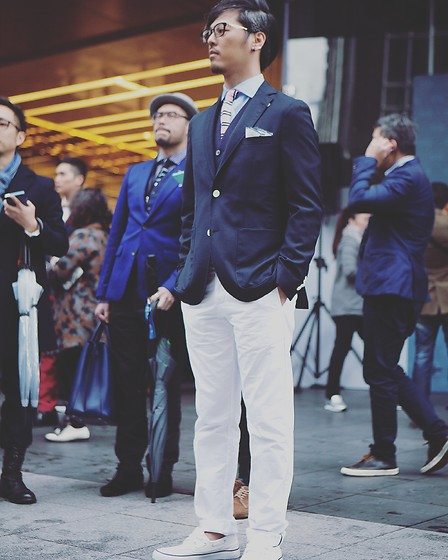feet: (155, 497, 300, 560), (334, 423, 448, 477), (90, 459, 180, 504), (224, 459, 274, 521), (42, 407, 111, 440), (1, 449, 43, 500)
